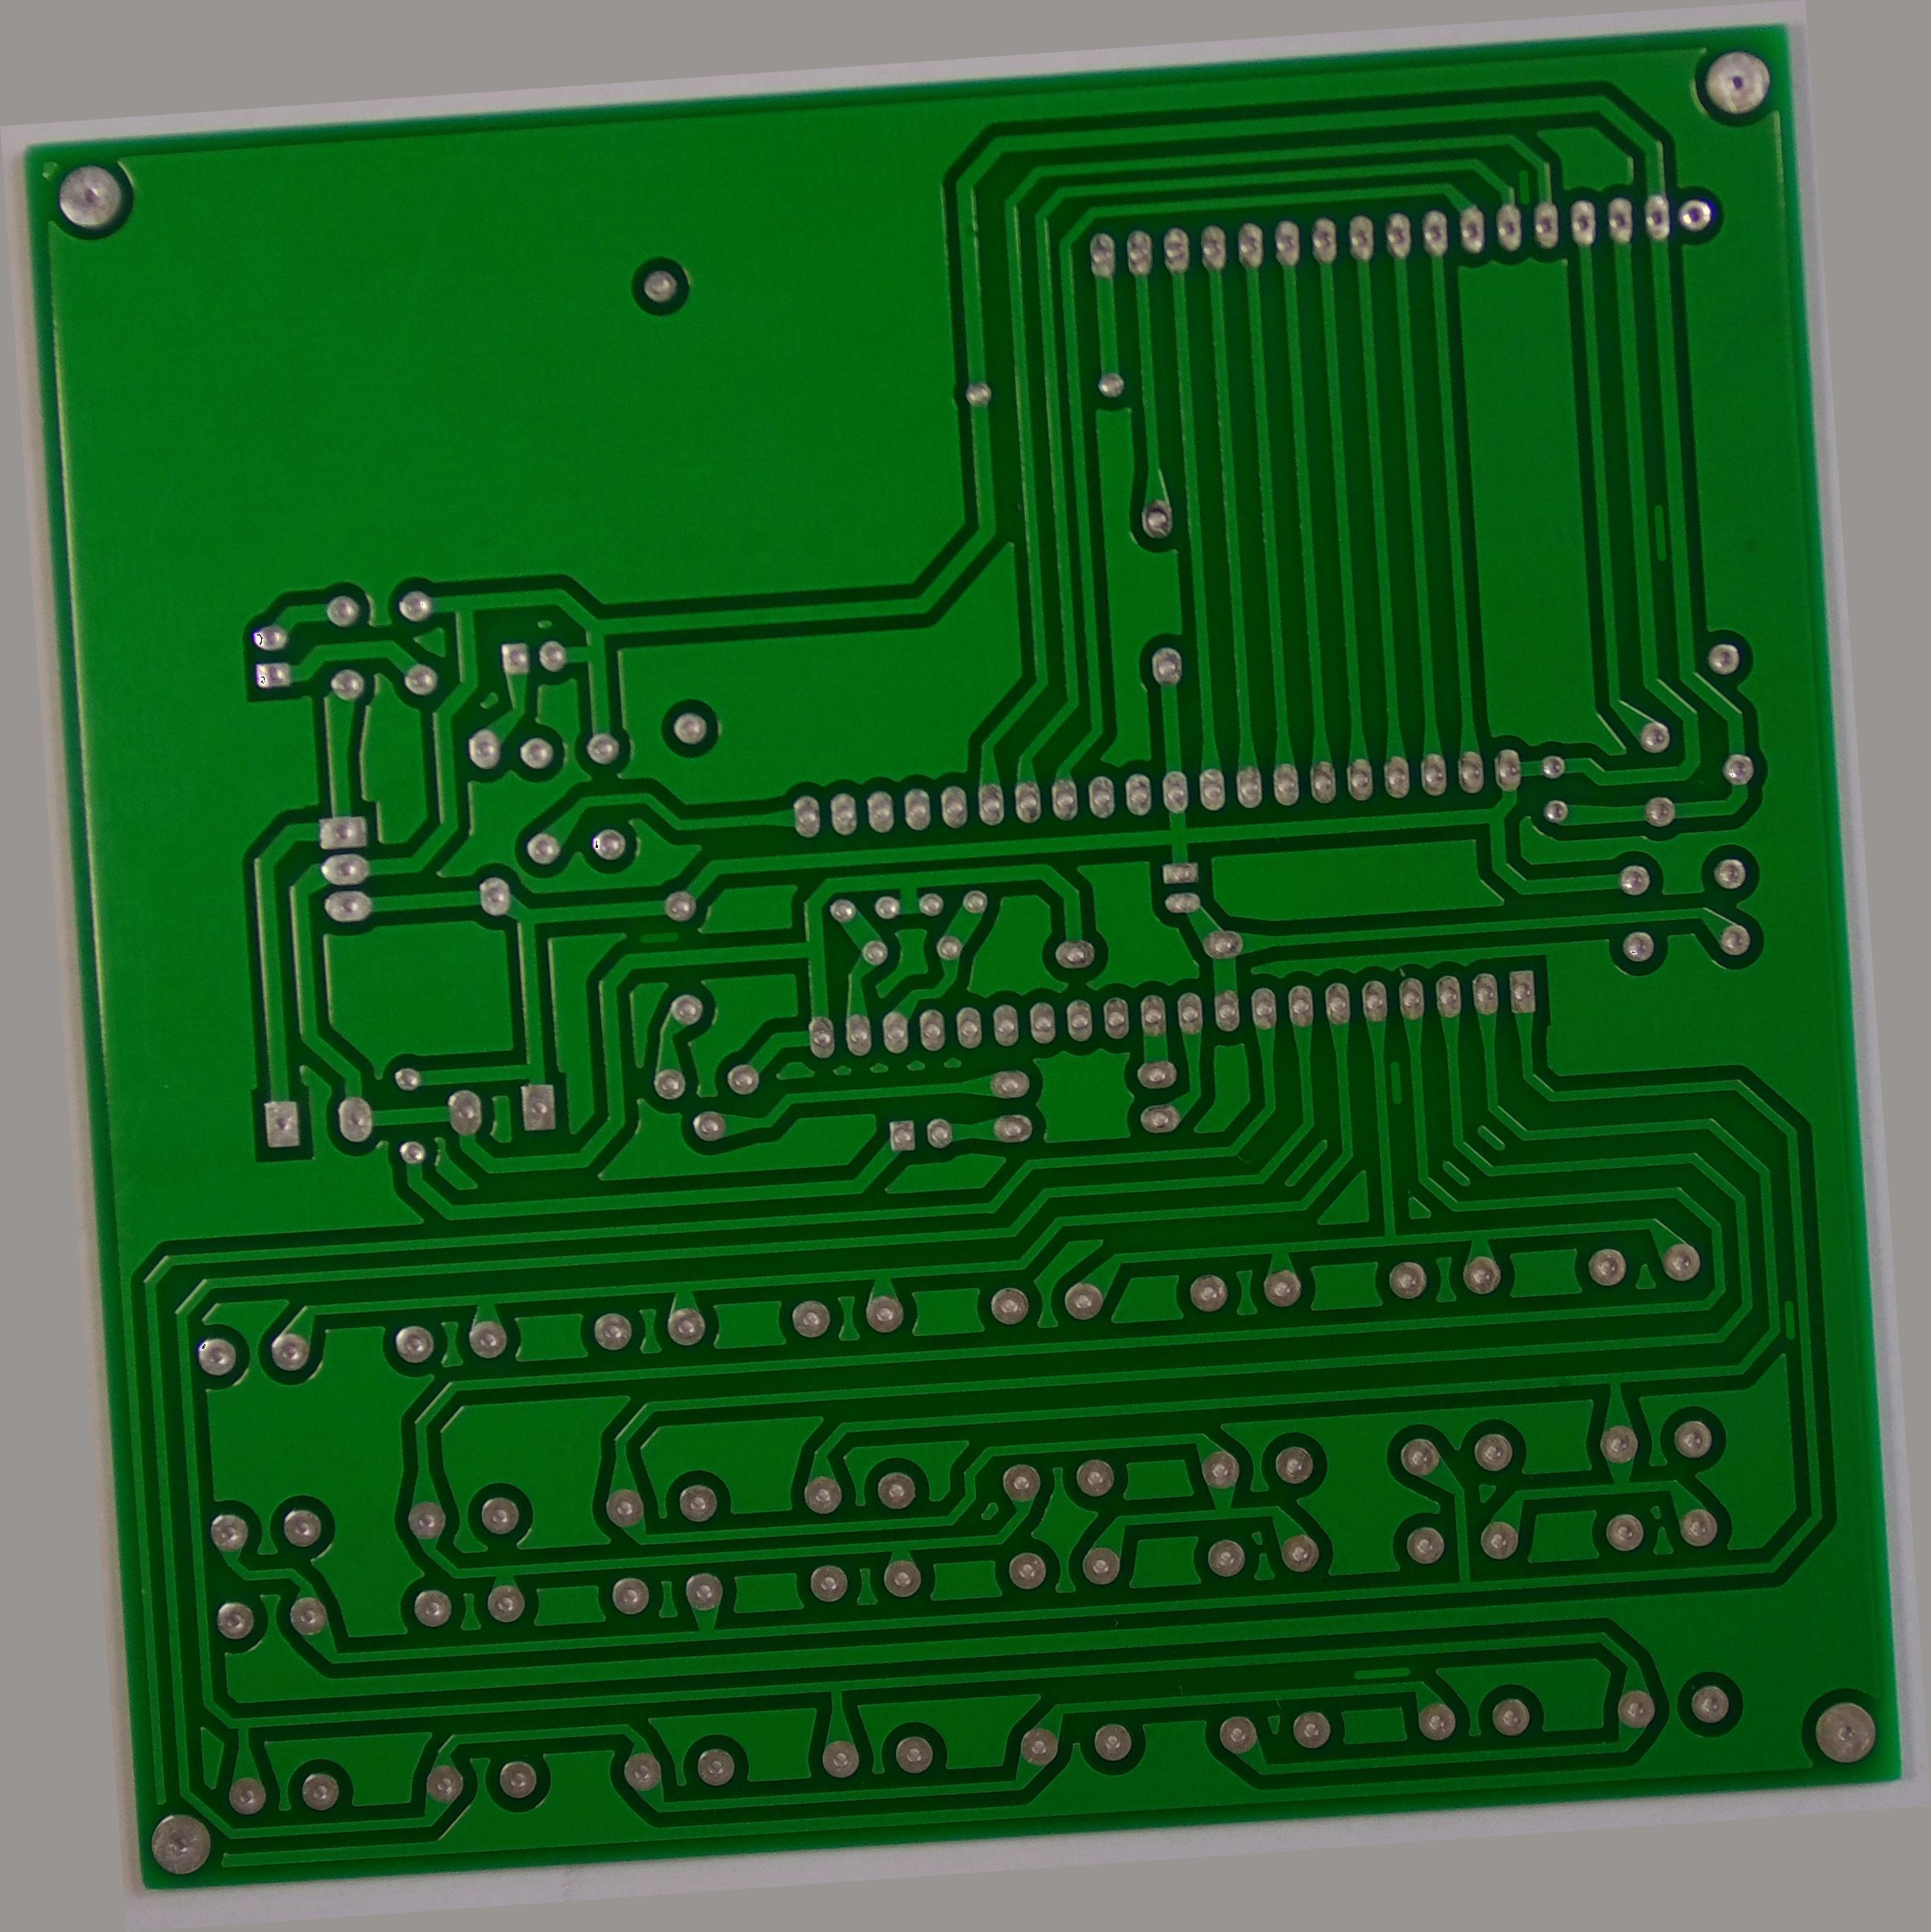spurious_copper: (1344, 1651, 1420, 1695), (1376, 1049, 1416, 1115), (1641, 495, 1675, 568), (626, 920, 686, 957), (1777, 1292, 1804, 1353)
